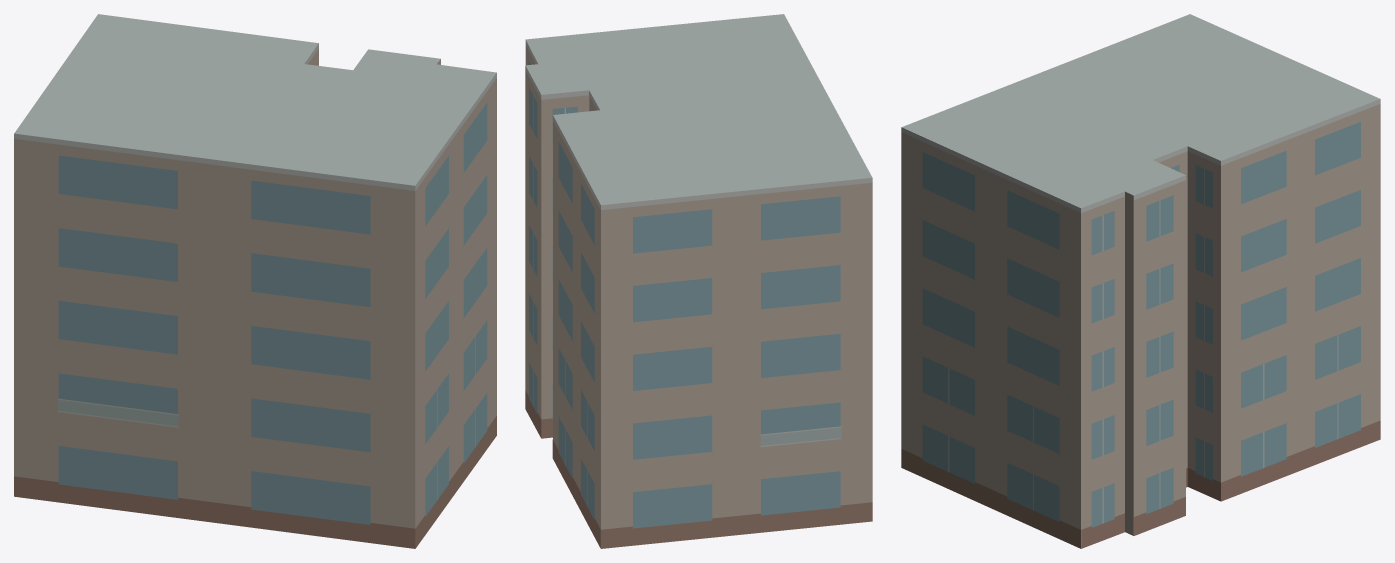
File: survey-upis-33012847.glb
The picture shows the model from 3 angles, left to right: view 1: azimuth 30°, elevation 25°; view 2: azimuth 150°, elevation 25°; view 3: azimuth 270°, elevation 25°; orthographic projection. The views are drawn at different scales.
Parts seen in each view (by area): view 1: survey-upis-33012847.tmp; view 2: survey-upis-33012847.tmp; view 3: survey-upis-33012847.tmp.
Boxes of the visible parts, box(x1,y1,x2,y2) form: survey-upis-33012847.tmp: box(14, 14, 496, 548); survey-upis-33012847.tmp: box(525, 14, 872, 548); survey-upis-33012847.tmp: box(901, 14, 1380, 548).
Bounding box in the file's own units: 20.82 × 17 × 21.68.
